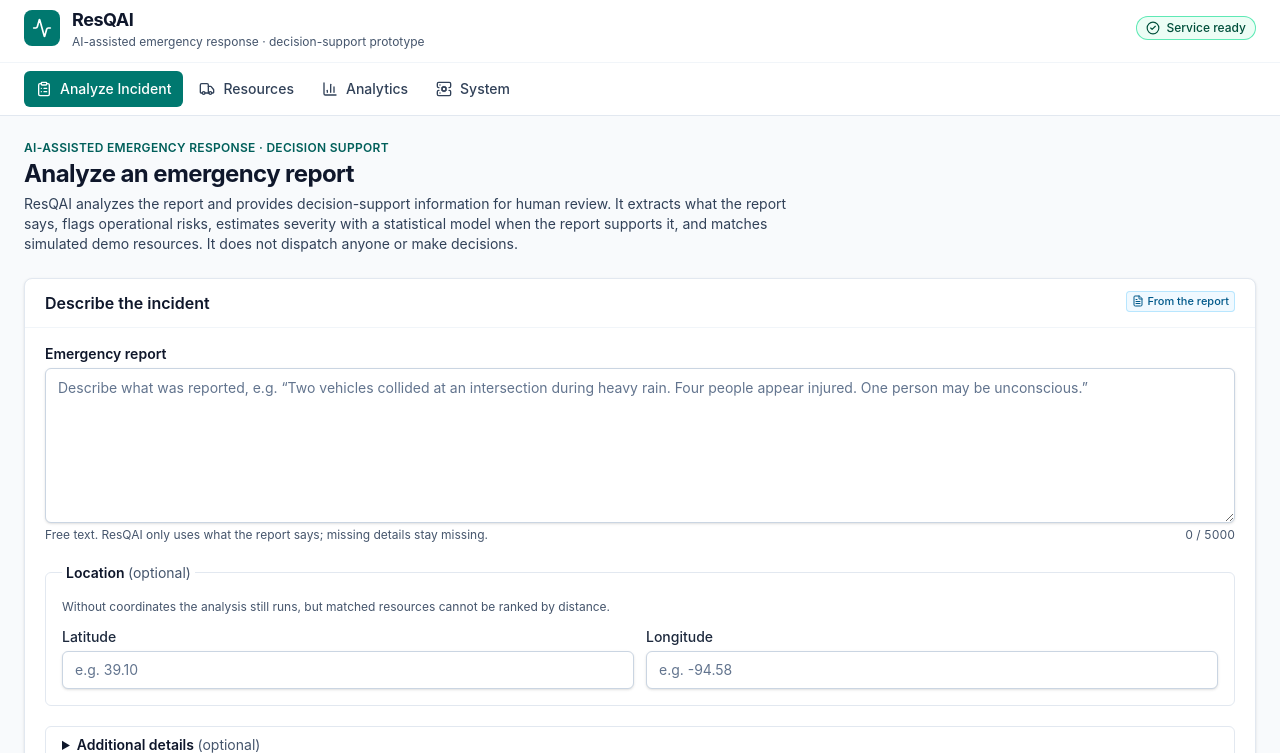
Test: Analyze page › sends exactly what was entered (optional fields omitted) with the dashboard source
Type "A crash on the highway." into the text box labelled "Emergency report" at (640, 445), box x1=45 y1=368 x2=1235 y2=522
(page scrolled)
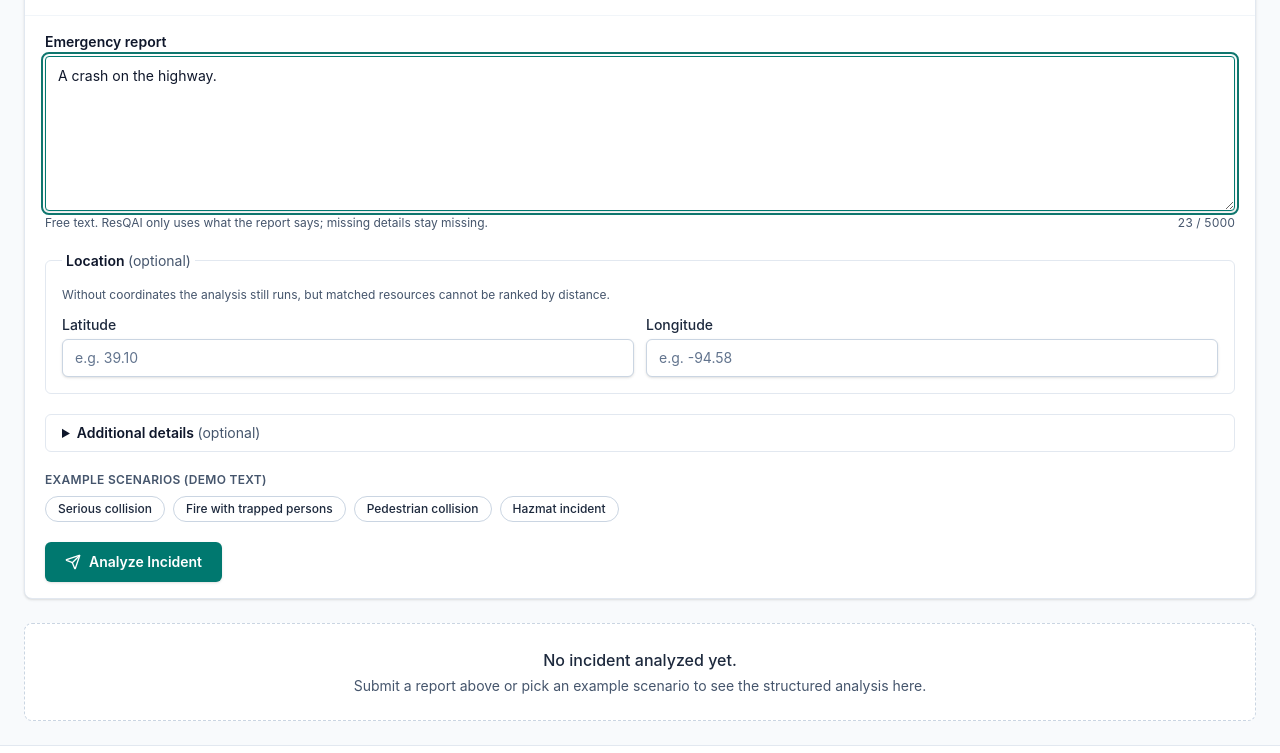
Click the button "Analyze Incident" at (134, 562), box x1=45 y1=542 x2=222 y2=582
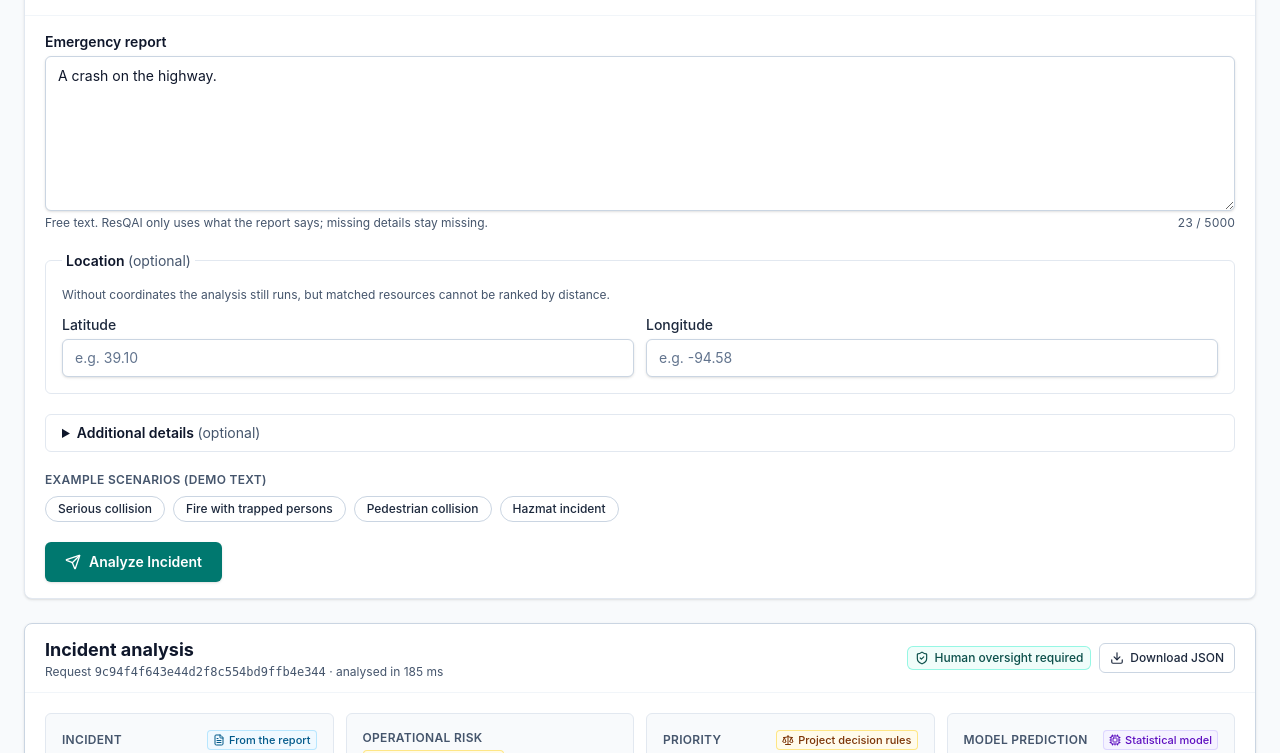
Now the heading "Incident analysis" is shown, box x1=45 y1=638 x2=194 y2=660
